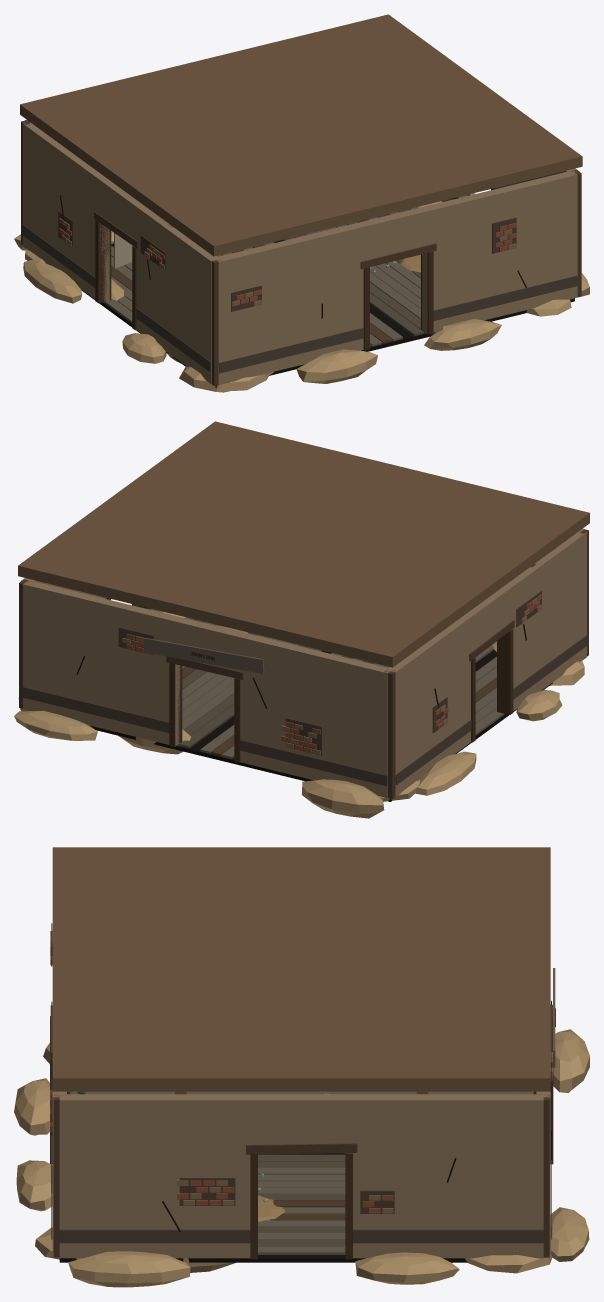
The model's file is TownBldg_doctor.glb.
The picture shows the model from 3 angles, top to bottom: view 1: azimuth 30°, elevation 25°; view 2: azimuth 150°, elevation 25°; view 3: azimuth 270°, elevation 25°; orthographic projection. The views are drawn at different scales.
Parts seen in each view (by area): view 1: TownBldg_doctor.001; view 2: TownBldg_doctor.001; view 3: TownBldg_doctor.001.
Part boxes in pixels (bbox=[...]): TownBldg_doctor.001: bbox=[14, 14, 589, 392]; TownBldg_doctor.001: bbox=[14, 421, 589, 818]; TownBldg_doctor.001: bbox=[14, 847, 589, 1287].
Size of the model in its own units: 12.92 by 4.66 by 11.91.
